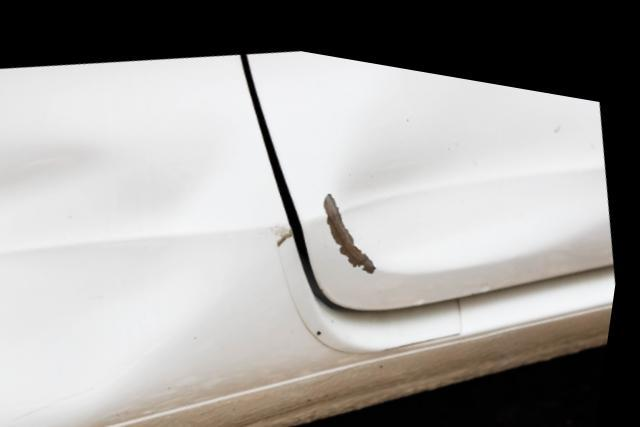dent: (0, 125, 265, 406), (338, 75, 613, 257)
